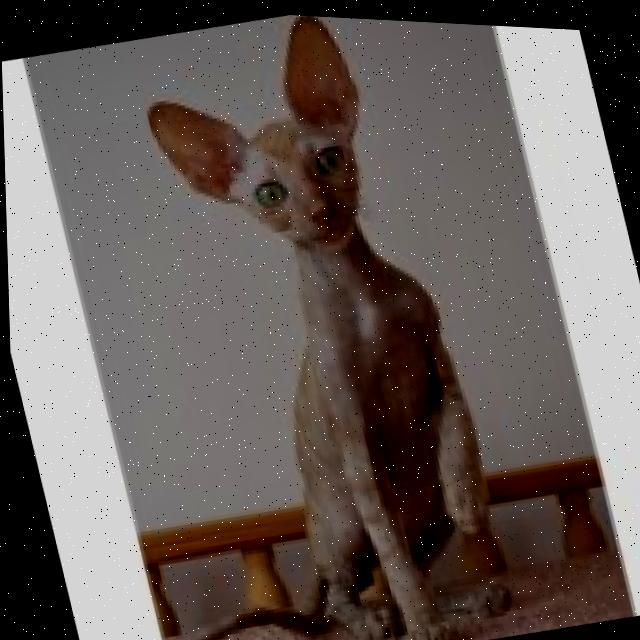Cornish Rex: (20, 1, 534, 640)
